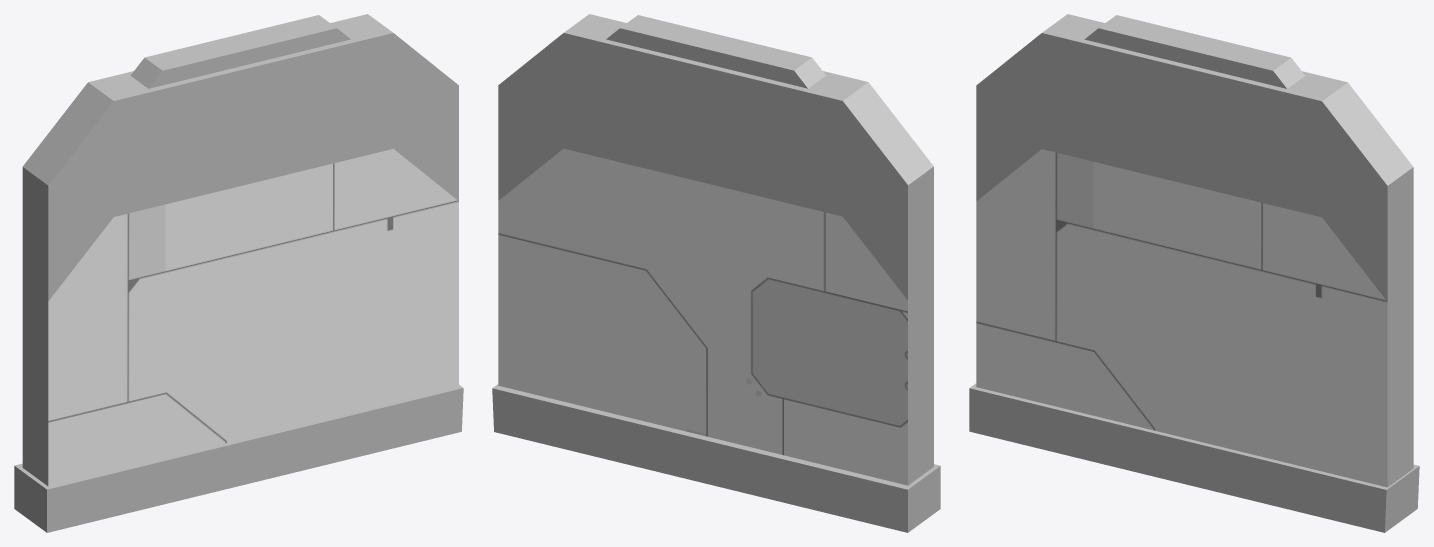
Rendered from SM_Railing_3.fbx.
3 renders of one model, left to right at view 1: azimuth 30°, elevation 25°; view 2: azimuth 150°, elevation 25°; view 3: azimuth 330°, elevation 25°, orthographic.
Parts seen in each view (by area): view 1: SM_Railing_3; view 2: SM_Railing_3; view 3: SM_Railing_3.
Boxes of the visible parts, bbox=[...] form: SM_Railing_3: bbox=[14, 14, 463, 532]; SM_Railing_3: bbox=[492, 14, 940, 532]; SM_Railing_3: bbox=[969, 14, 1419, 532].
Bounding box in the file's own units: 101 × 99.33 × 13.85.
